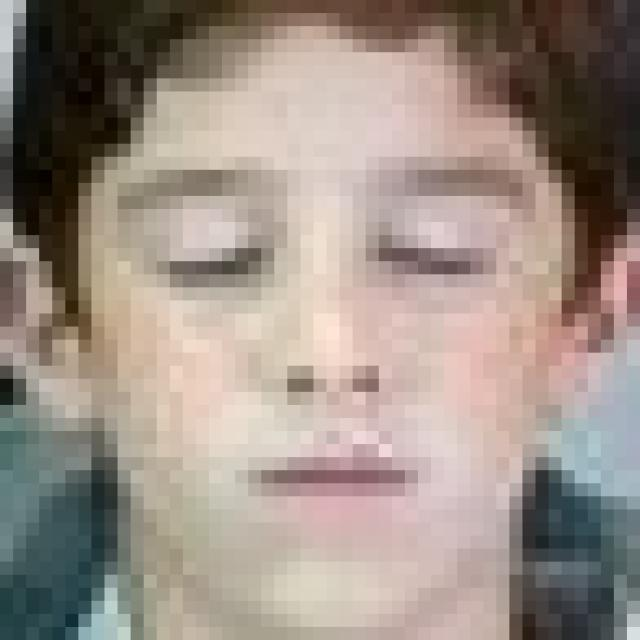Eyeclosed: (149, 231, 263, 294), (373, 228, 485, 292)
